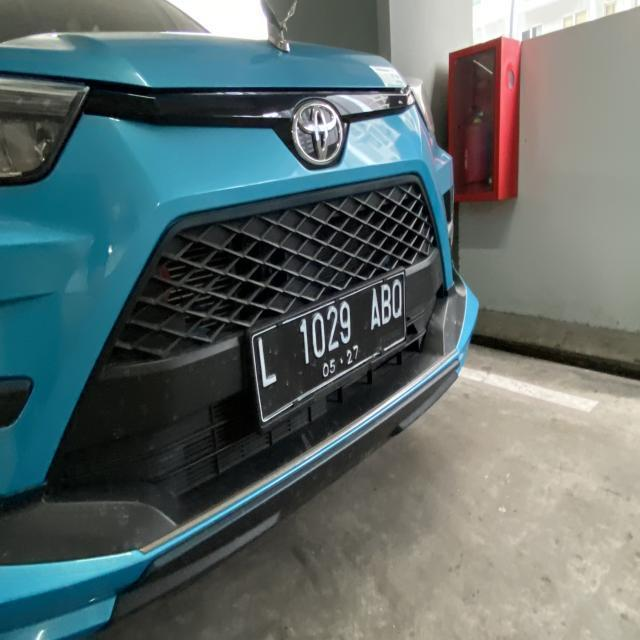0: (310, 314, 326, 358)
1: (296, 318, 310, 360)
2: (326, 306, 339, 352)
9: (340, 299, 352, 346)
A: (368, 286, 381, 332)
B: (381, 283, 391, 328)
L: (254, 334, 281, 389)
Q: (390, 278, 405, 322)
